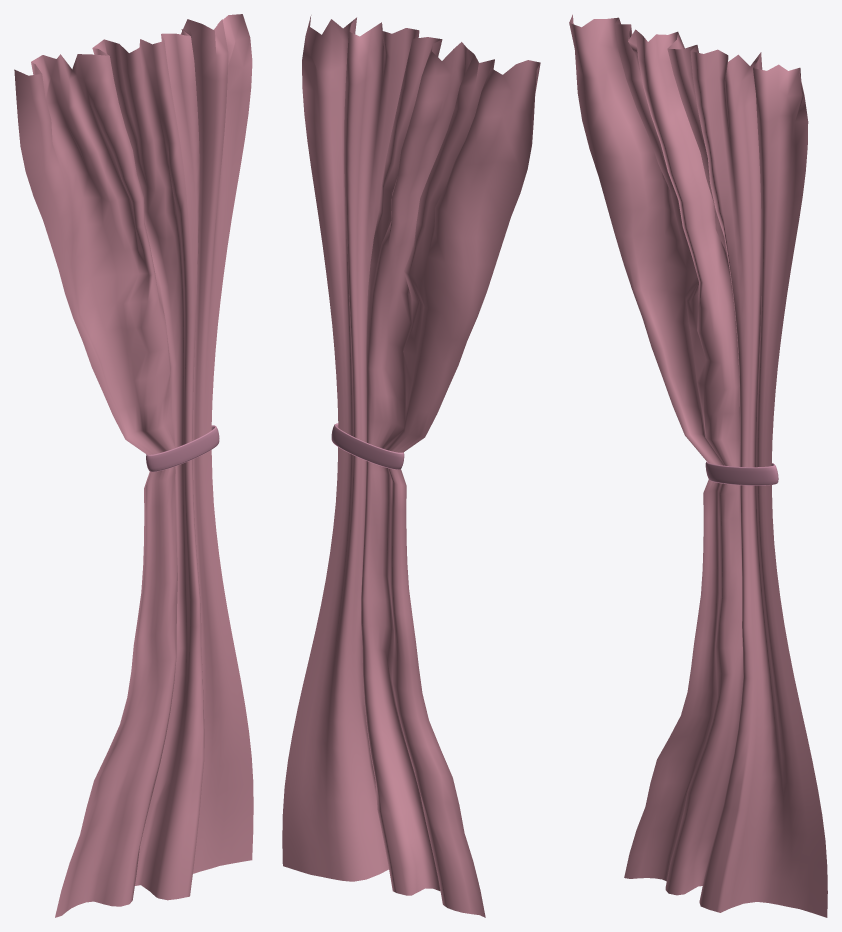
Rendered from curtainwTie.fbx.
3 views of the same model, side by side, from view 1: azimuth 30°, elevation 25°; view 2: azimuth 150°, elevation 25°; view 3: azimuth 330°, elevation 25° (orthographic).
Parts seen in each view (by area): view 1: CurtainRight2, Torus.001; view 2: CurtainRight2, Torus.001; view 3: CurtainRight2, Torus.001.
Boxes of the visible parts, x1=… form: CurtainRight2: x1=14, y1=14, x2=253, y2=917; Torus.001: x1=146, y1=425, x2=219, y2=471; CurtainRight2: x1=282, y1=15, x2=540, y2=917; Torus.001: x1=331, y1=423, x2=404, y2=469; CurtainRight2: x1=569, y1=14, x2=827, y2=917; Torus.001: x1=705, y1=461, x2=778, y2=485.
Size of the model in its own units: 0.6643 by 2.21 by 0.1211.
